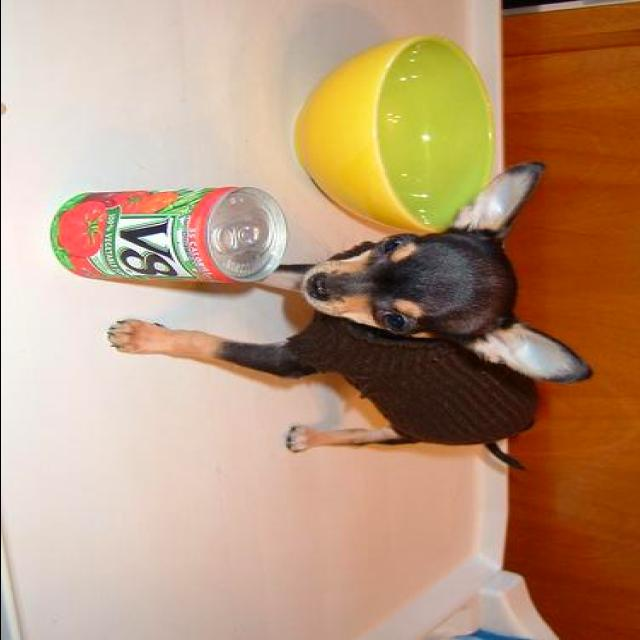chihuahua: (104, 160, 596, 476)
